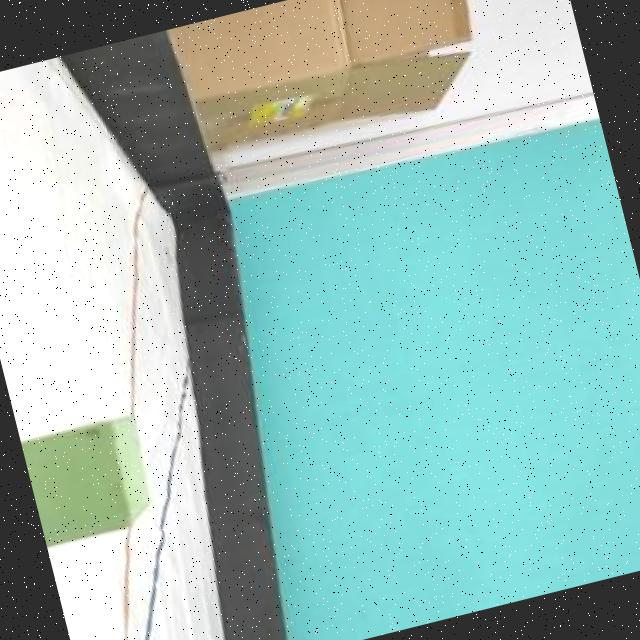greenbox: (19, 406, 168, 548)
